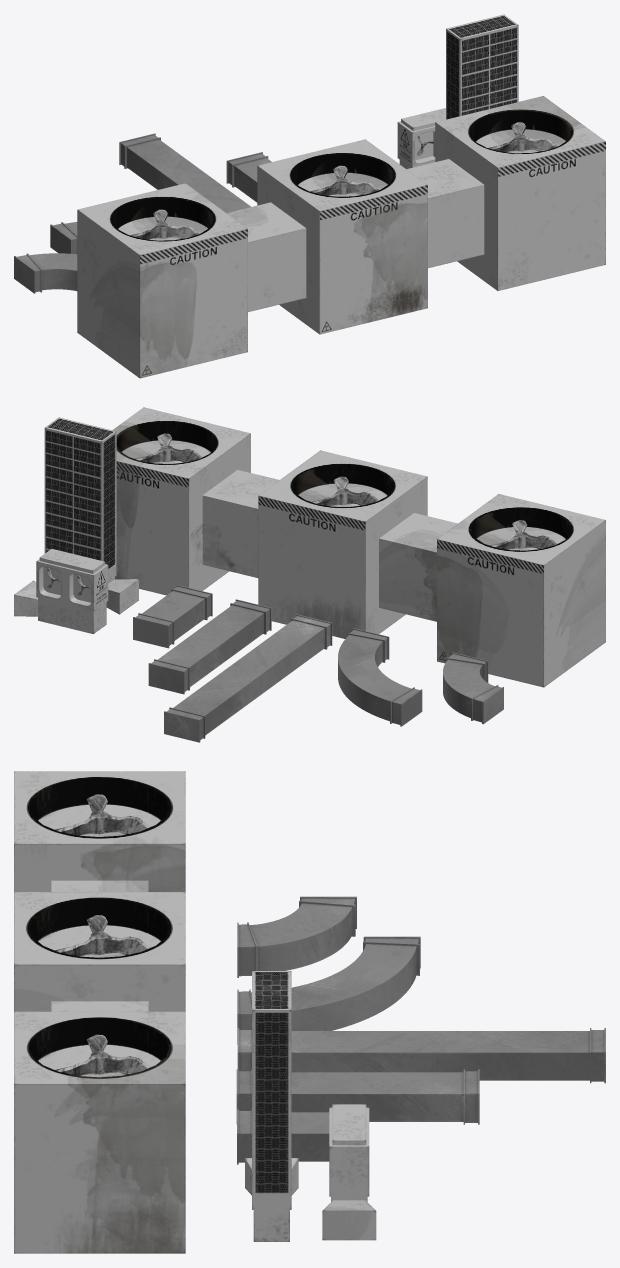
Rendered from rooftop_ventilations_air_conditioning_units.glb.
The picture shows the model from 3 angles, top to bottom: view 1: azimuth 30°, elevation 25°; view 2: azimuth 150°, elevation 25°; view 3: azimuth 270°, elevation 25°; orthographic projection. The views are drawn at different scales.
Parts seen in each view (by area): view 1: Object_2, Object_3, Object_4; view 2: Object_2, Object_3, Object_4; view 3: Object_2, Object_3, Object_4.
Boxes of the visible parts, x1,y1,x2,y2 form: Object_2: (77, 14, 605, 378); Object_3: (14, 133, 271, 293); Object_4: (130, 122, 556, 239); Object_2: (14, 407, 605, 687); Object_3: (133, 585, 503, 742); Object_4: (47, 433, 556, 595); Object_2: (14, 771, 376, 1253); Object_3: (236, 896, 605, 1164); Object_4: (55, 794, 149, 1075).
Size of the model in its own units: 32.92 by 11.89 by 26.26.
Materials: 3 (3 with a texture image).
